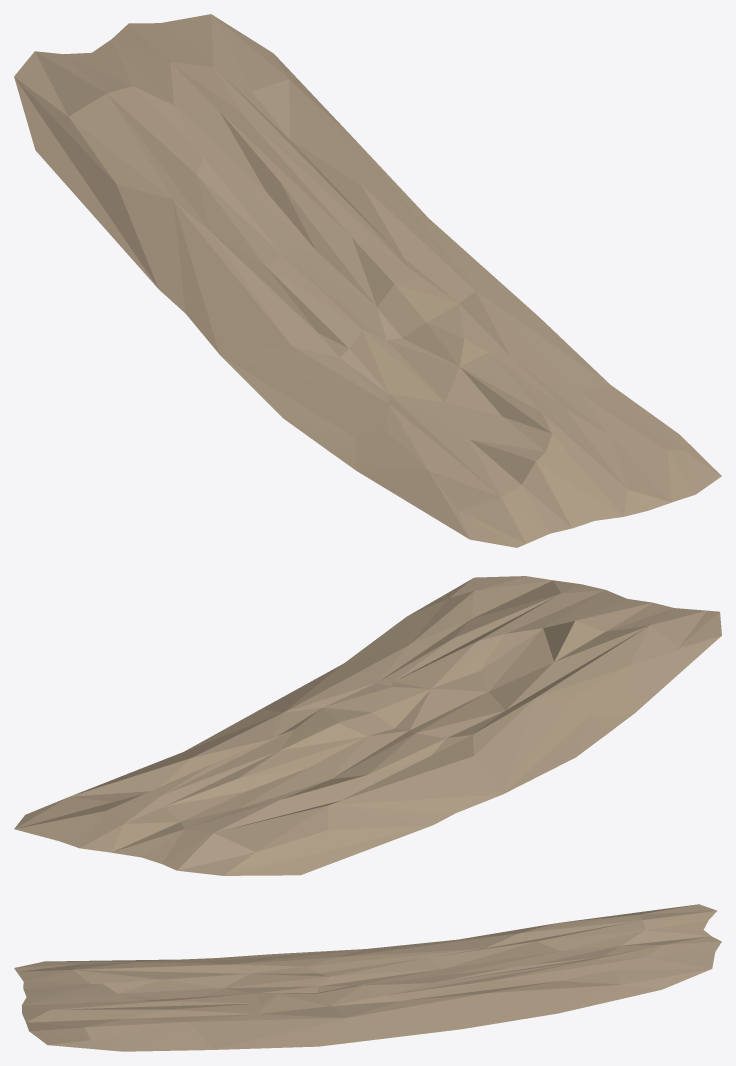
File: SM_Env_DirtRoad_Slope_Up_01.fbx
The picture shows the model from 3 angles, top to bottom: view 1: azimuth 30°, elevation 25°; view 2: azimuth 150°, elevation 25°; view 3: azimuth 270°, elevation 25°; orthographic projection. The views are drawn at different scales.
Visible parts, largest first — view 1: SM_Env_DirtRoad_Slope_Up_01; view 2: SM_Env_DirtRoad_Slope_Up_01; view 3: SM_Env_DirtRoad_Slope_Up_01.
Part boxes in pixels (x1,y1,x2,y2): SM_Env_DirtRoad_Slope_Up_01: (14,14,721,547); SM_Env_DirtRoad_Slope_Up_01: (14,576,721,875); SM_Env_DirtRoad_Slope_Up_01: (14,904,721,1051).
Bounding box in the file's own units: 268 × 98.17 × 838.
